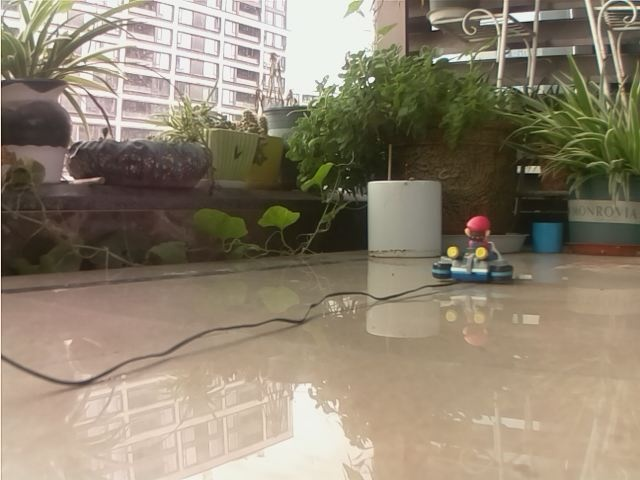mario: (429, 211, 537, 302)
